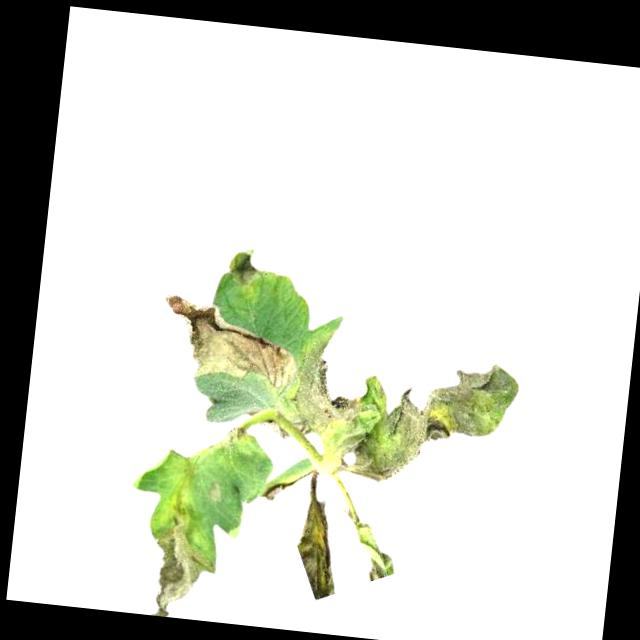Late_blight: (320, 345, 521, 492), (155, 287, 303, 392), (289, 326, 365, 447), (147, 509, 220, 620), (294, 498, 344, 594), (223, 244, 265, 298), (217, 423, 250, 453), (204, 482, 225, 503)
